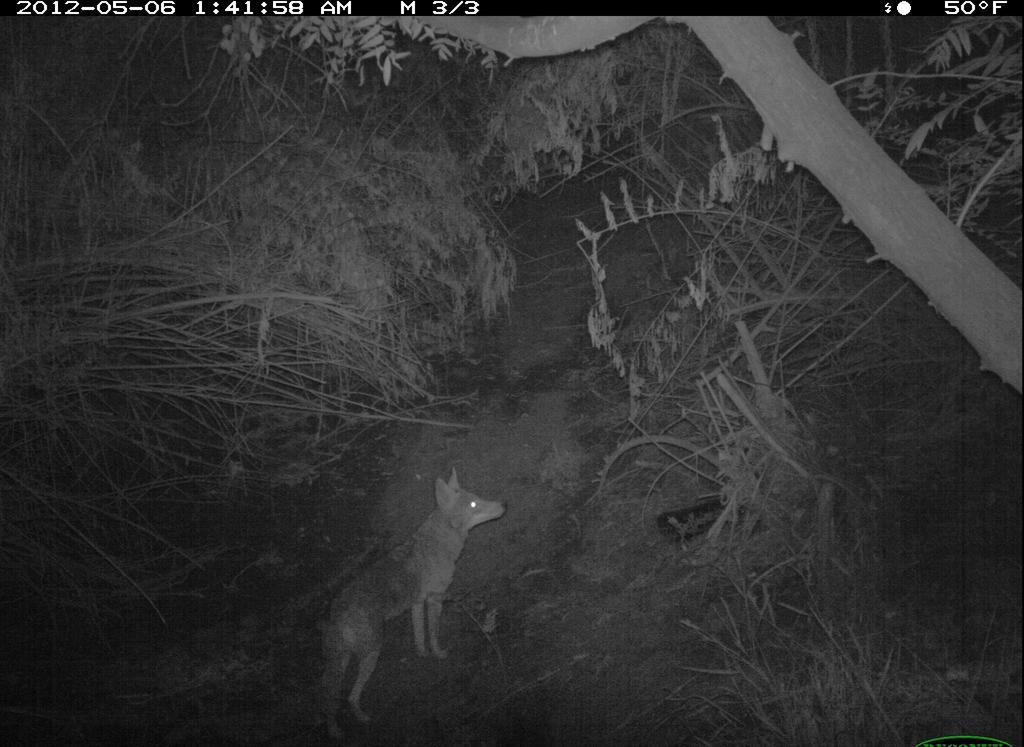coyote: (312, 466, 515, 747)
